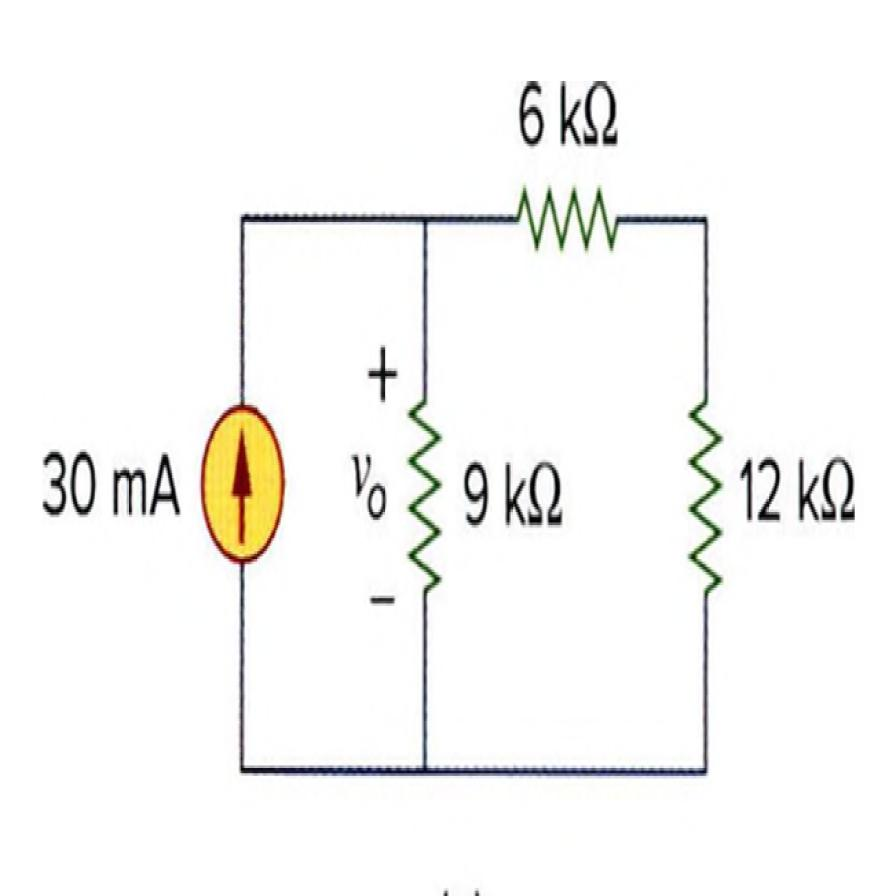I1: (202, 402, 282, 564)
R1: (506, 174, 628, 259)
R2: (680, 376, 730, 603), (399, 392, 449, 617)
